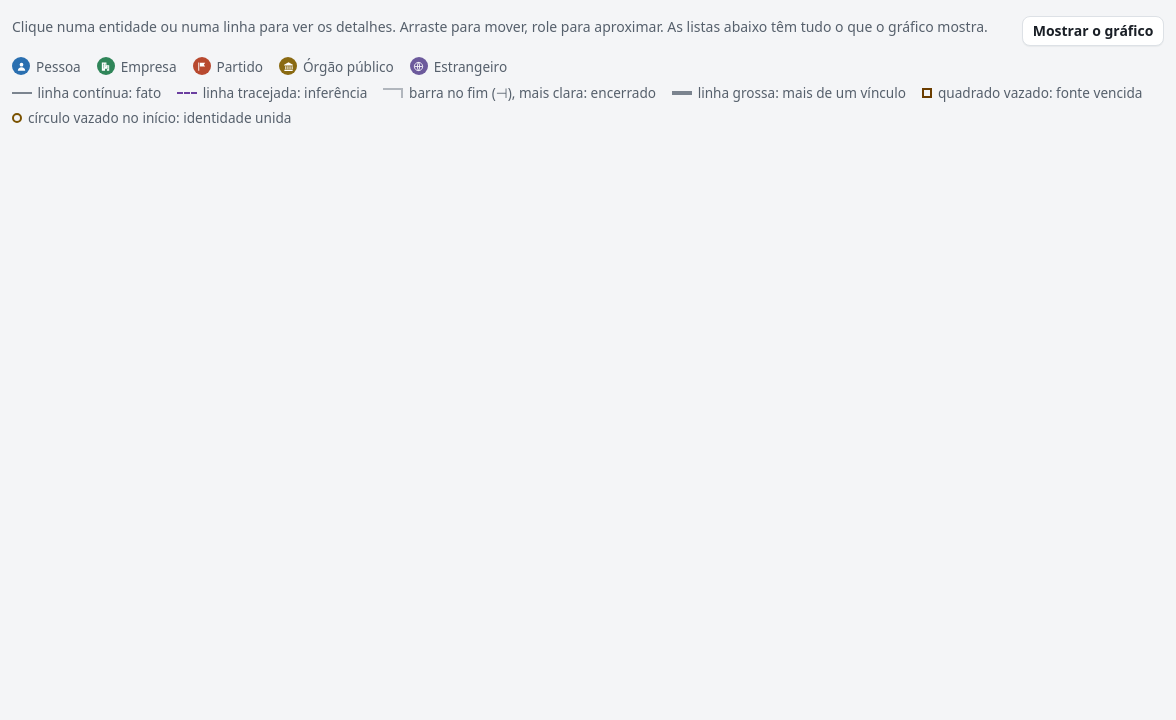
Test: GraphPanel › na tela de celular o gráfico começa oculto
This screenshot has width=1176, height=720.
// Shown on request: the graph mounts then (and only then).
Click the button "Mostrar o gráfico". click: coordinates (1093, 31)
box: [1022,16,1164,46]
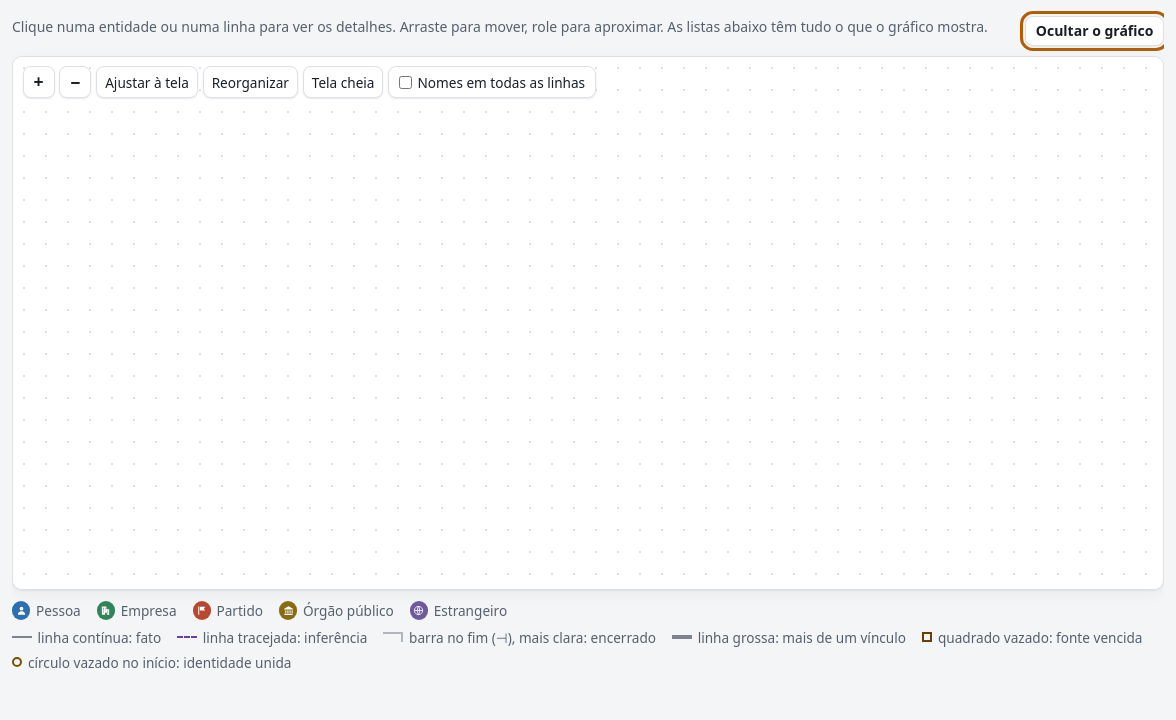
expect the button "Ocultar o gráfico" is shown: met, box [1025,16,1164,46]
